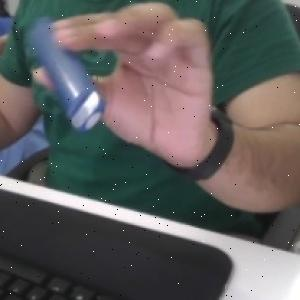Diamond-E-Ciggirate: (26, 15, 106, 135)
